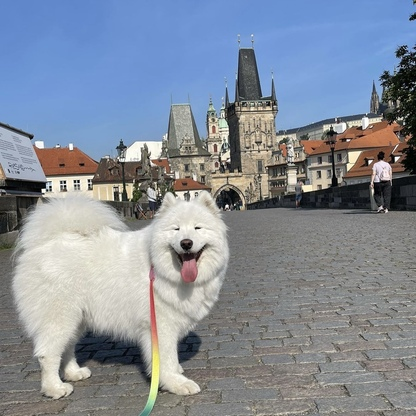samoyed: (7, 186, 231, 400)
